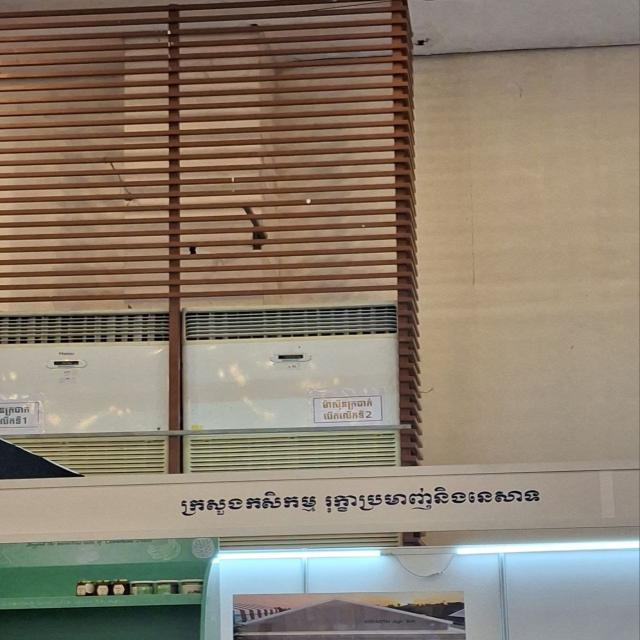Yolov11kh: (152, 472, 565, 541), (314, 386, 383, 412), (303, 408, 389, 427)
